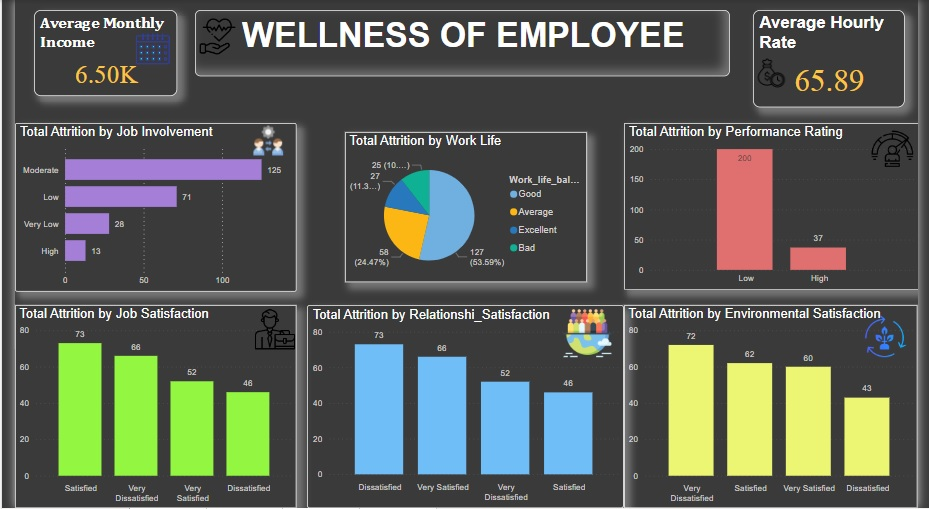

The dashboard page shown, as its layout file describes it:
{"tool":"powerbi","page":{"name":"Page 4","canvas":[1280,720],"ordinal":3},"visuals":[{"type":"card","title":"Average Monthly Income","fields":{"Values":["Avg(HR-Employee-Attrition (1).MonthlyIncome)"]},"box":[27.4,14.4,203,122.4],"z":0},{"type":"card","title":"Average Hourly Rate","fields":{"Values":["Avg(HR-Employee-Attrition (1).HourlyRate)"]},"box":[1045.4,14.4,214.6,138.2],"z":1000},{"type":"columnChart","title":"Total Attrition by Environmental Satisfaction","fields":{"Y":["Sum(HR-Employee-Attrition (1).Attrition Condition)"],"Category":["HR-Employee-Attrition (1).Environmental Sat_Ranking"]},"box":[862.6,432,416.2,288],"z":2000},{"type":"barChart","title":"Total Attrition by Job Involvement","fields":{"Category":["HR-Employee-Attrition (1).JobInvo_Ranking "],"Y":["Sum(HR-Employee-Attrition (1).Attrition Condition)"]},"box":[0,174.2,398.9,239],"z":3000},{"type":"columnChart","title":"Total Attrition by Relationshi_Satisfaction","fields":{"Category":["HR-Employee-Attrition (1).JobSatis_Ranking"],"Y":["Sum(HR-Employee-Attrition (1).Attrition Condition)"]},"box":[413.3,432,449.3,288],"z":4000},{"type":"columnChart","title":"Total Attrition by Performance Rating","fields":{"Y":["Sum(HR-Employee-Attrition (1).Attrition Condition)"],"Category":["HR-Employee-Attrition (1).Performance Ranking"]},"box":[862.6,174.2,417.6,236.2],"z":5000},{"type":"pieChart","title":"Total Attrition by Work Life","fields":{"Category":["HR-Employee-Attrition (1).Work_life_balance Ranking"],"Y":["Sum(HR-Employee-Attrition (1).Attrition Condition)"]},"box":[468,187.2,342.7,213.1],"z":6000},{"type":"columnChart","title":"Total Attrition by Job Satisfaction","fields":{"Y":["Sum(HR-Employee-Attrition (1).Attrition Condition)"],"Category":["HR-Employee-Attrition (1).JobSats_Ranking"]},"box":[0,432,398.9,288],"z":7000},{"type":"textbox","box":[255.1,14.2,758.3,93.5],"z":8000},{"type":"image","box":[158.7,35.4,72.3,65.2],"z":9000},{"type":"image","box":[332.6,432,70.6,69.1],"z":10000},{"type":"image","box":[316.8,171.4,82.1,54.7],"z":11000},{"type":"image","box":[1209.6,174.2,69.1,73.4],"z":12000},{"type":"image","box":[1186.3,442.2,93.5,69.4],"z":13000},{"type":"image","box":[1045.4,61.9,51.8,80.6],"z":14000},{"type":"image","box":[256.5,14.2,60.9,73.7],"z":15000},{"type":"image","box":[771.8,432,77.8,79.2],"z":16000}]}

Visuals, with their boxes in screenshot pixels (x1, y1, x2, y2), scaled from the page's 1280x720 canvas onto the 929x509 screenshot:
"Average Monthly Income" card: rect(20, 10, 167, 97)
"Average Hourly Rate" card: rect(759, 10, 914, 108)
"Total Attrition by Environmental Satisfaction" columnChart: rect(626, 305, 928, 508)
"Total Attrition by Job Involvement" barChart: rect(0, 123, 290, 292)
"Total Attrition by Relationshi_Satisfaction" columnChart: rect(300, 305, 626, 508)
"Total Attrition by Performance Rating" columnChart: rect(626, 123, 928, 290)
"Total Attrition by Work Life" pieChart: rect(340, 132, 588, 283)
"Total Attrition by Job Satisfaction" columnChart: rect(0, 305, 290, 508)
textbox: rect(185, 10, 736, 76)
image: rect(115, 25, 168, 71)
image: rect(241, 305, 293, 354)
image: rect(230, 121, 290, 160)
image: rect(878, 123, 928, 175)
image: rect(861, 313, 928, 362)
image: rect(759, 44, 796, 101)
image: rect(186, 10, 230, 62)
image: rect(560, 305, 617, 361)
